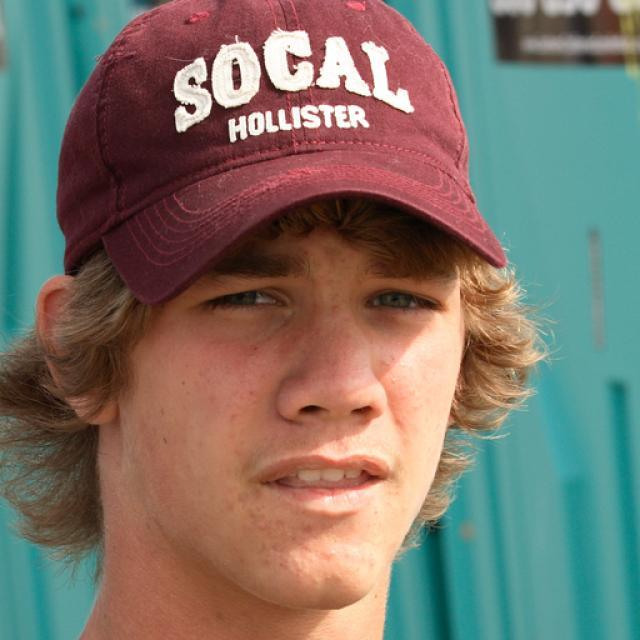disgust: (121, 179, 465, 612)
